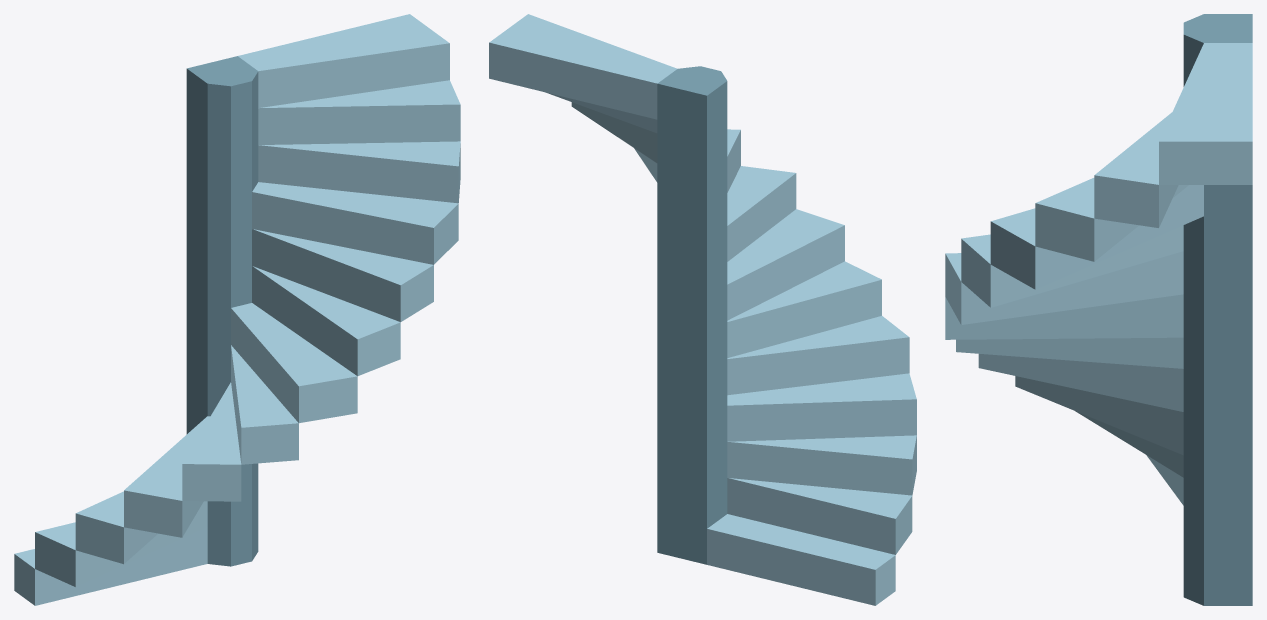
The model's file is stairsStoneRound.fbx.
3 renders of one model, left to right at view 1: azimuth 30°, elevation 25°; view 2: azimuth 150°, elevation 25°; view 3: azimuth 270°, elevation 25°, orthographic. The views are drawn at different scales.
Parts seen in each view (by area): view 1: stairsStoneRound; view 2: stairsStoneRound; view 3: stairsStoneRound.
Boxes of the visible parts, bbox=[...] form: stairsStoneRound: bbox=[14, 14, 460, 605]; stairsStoneRound: bbox=[489, 14, 916, 605]; stairsStoneRound: bbox=[945, 14, 1252, 605].
Size of the model in its own units: 8.62 by 10 by 4.95.
